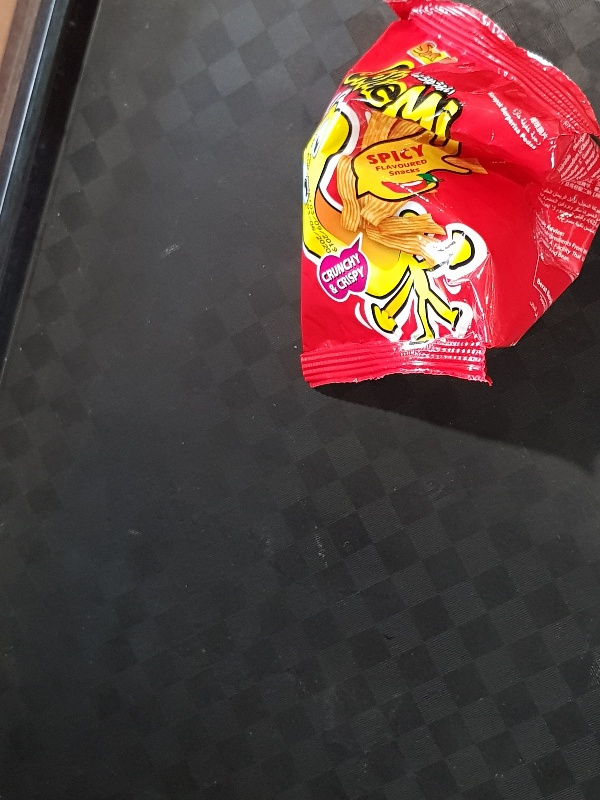ShoyueMi Spicy Flavoured Snacks: (299, 1, 600, 391)
